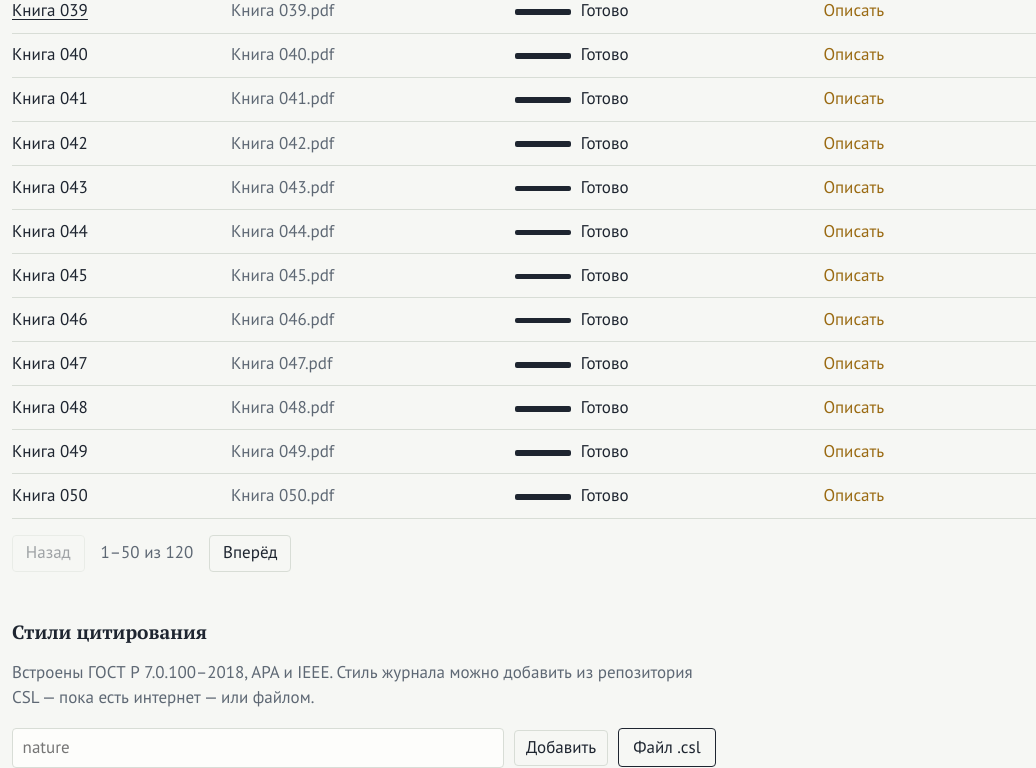
Test: LibraryPage › pages › shows fifty rows a page and turns to the next
This screenshot has width=1036, height=768.
(page scrolled)
Expected: the navigation bar named "Страницы" shows "1–50 из 120", [12,535,291,572]
Expected: the button "Назад" is disabled, [12,535,85,572]
Click the button "Вперёд". click: (250, 553)
box: [209,535,291,572]
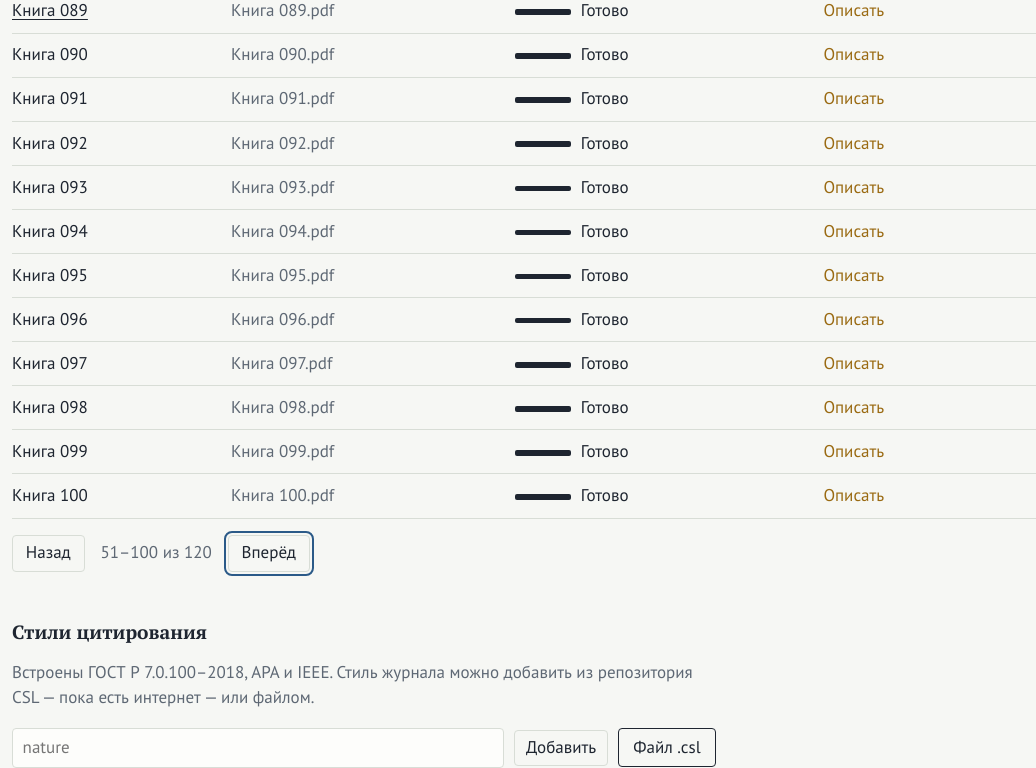
Result: the navigation bar named "Страницы" shows "51–100 из 120" at [12,535,310,572]
